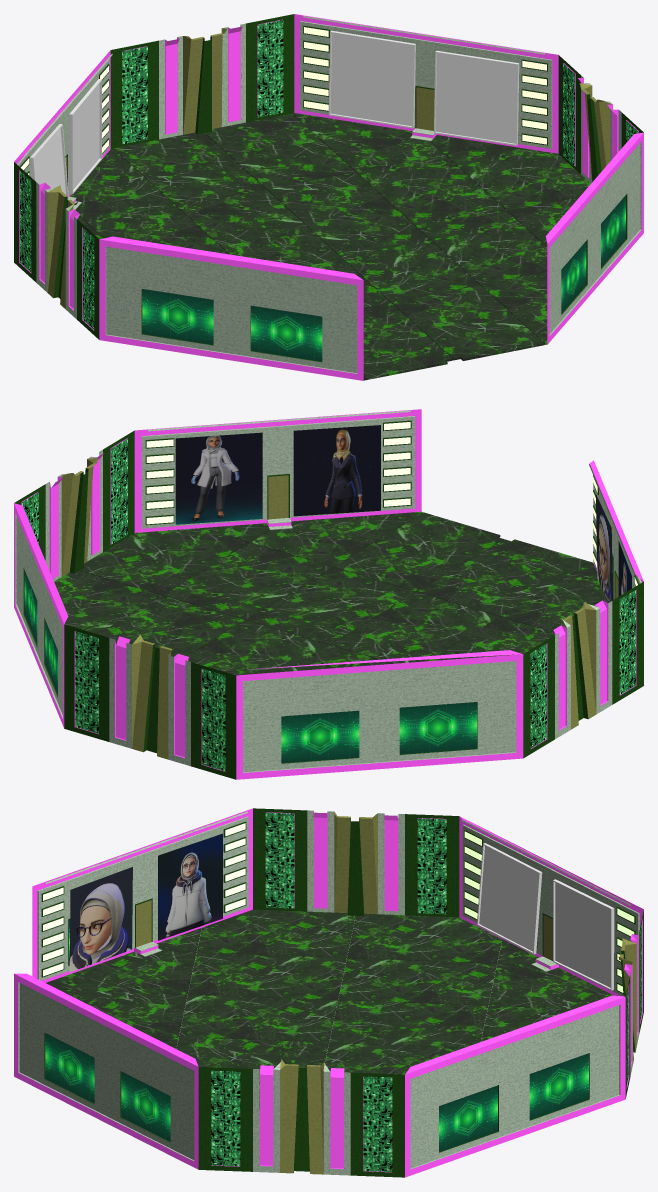
The model's file is room2.glb.
3 views of the same model, one above another, from view 1: azimuth 30°, elevation 25°; view 2: azimuth 150°, elevation 25°; view 3: azimuth 270°, elevation 25° (orthographic). The views are drawn at different scales.
Parts seen in each view (by area): view 1: Material2, Material2.002, Material2.003, Material2.004, Material2.006, Material2.007, Cube_tableau_0.002, Material2.001, Cube_tableau_0.004, Material2.005, Cube_tableau_0.005, Cube_tableau_0.003 (+3 smaller); view 2: Material2, Material2.002, Material2.003, Material2.004, Material2.007, Material2.006, Material2.001, Plane.004, Plane.003, Material2.005, Plane.001; view 3: Material2, Material2.002, Material2.003, Material2.004, Material2.007, Material2.006, Material2.001, Plane.002, Plane.001, Cube_tableau_0.003, Cube_tableau_0.005, Material2.005 (+2 smaller).
Boxes of the visible parts, x1,y1,x2,y2 form: Material2: (70,113,590,380); Material2.002: (17,16,641,373); Material2.003: (14,14,643,380); Material2.004: (14,14,643,362); Material2.006: (142,195,625,361); Material2.007: (20,20,637,329); Cube_tableau_0.002: (330,33,413,126); Material2.001: (47,28,610,308); Cube_tableau_0.004: (435,53,516,143); Material2.005: (20,27,546,175); Cube_tableau_0.005: (73,84,99,189); Cube_tableau_0.003: (33,128,65,194); Material2: (54,511,608,675); Material2.002: (15,410,641,772); Material2.003: (14,409,643,779); Material2.004: (14,420,643,779); Material2.007: (22,438,635,771); Material2.006: (24,558,612,763); Material2.001: (61,457,618,759); Plane.004: (175,432,262,524); Plane.003: (293,425,380,516); Material2.005: (146,422,637,585); Plane.001: (596,494,612,602); Material2: (46,909,613,1109); Material2.002: (18,810,639,1175); Material2.003: (14,808,643,1177); Material2.004: (41,808,643,1177); Material2.007: (211,812,641,1171); Material2.006: (45,919,588,1151); Material2.001: (136,811,636,1174); Plane.002: (158,833,222,940); Plane.001: (69,867,132,972); Cube_tableau_0.003: (479,846,538,951); Cube_tableau_0.005: (555,883,610,987); Material2.005: (43,823,634,992).
Bounding box in the file's own units: 19.81 × 3.75 × 19.81.
27 materials, 10 textured.
